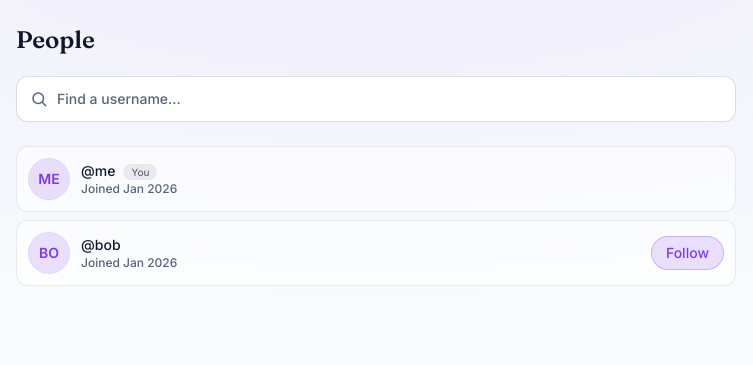
Test: Members › filters by username via the search box
This screenshot has width=753, height=365.
Expected: the text "@bob" is shown, left=81, top=236, right=120, bottom=253
Type "zzz" into the field with placeholder "Find a username…" at [376, 99], box left=16, top=76, right=736, bottom=122
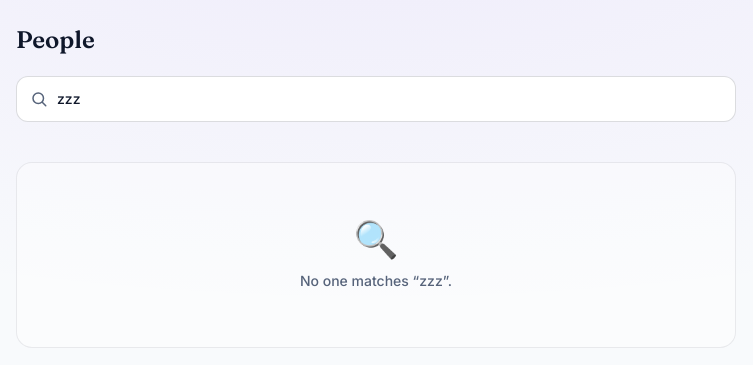
Expected: the text "No one matches “zzz”." is shown, left=300, top=271, right=452, bottom=291
